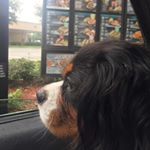puppy: (32, 35, 148, 150)
